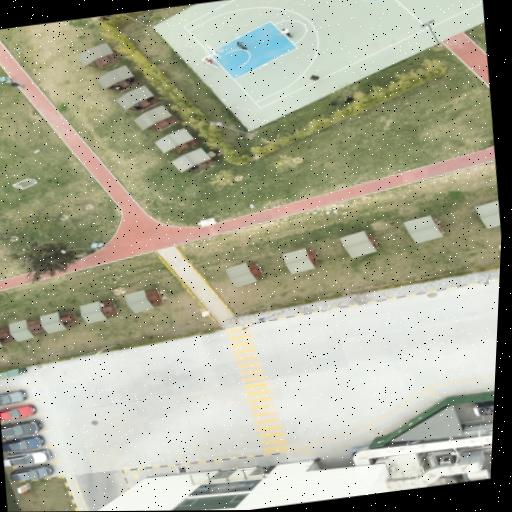car: (3, 449, 50, 466), (1, 419, 41, 437), (10, 464, 53, 480), (2, 435, 43, 451), (0, 404, 35, 419), (0, 390, 26, 404)
person: (279, 28, 292, 36), (237, 40, 248, 49), (310, 74, 322, 80), (10, 82, 24, 87), (125, 77, 135, 83), (114, 85, 123, 89)
